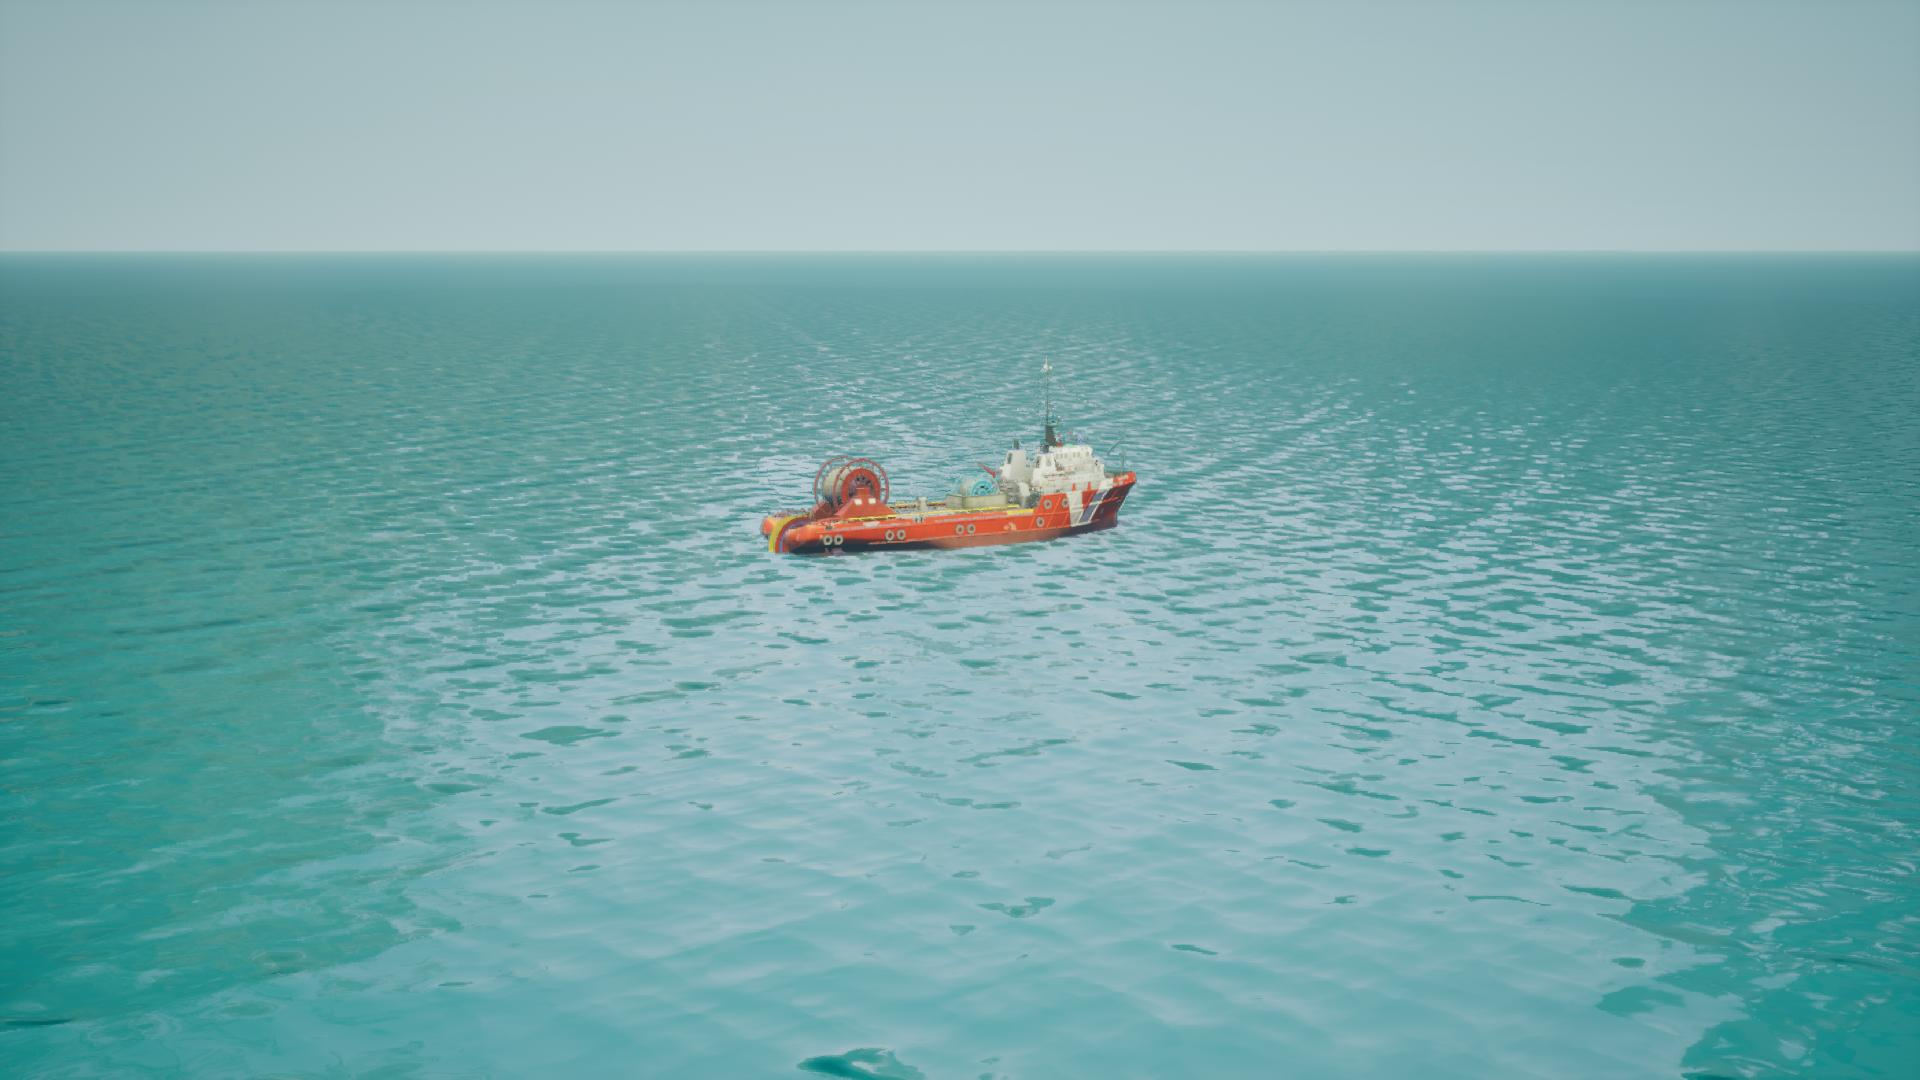Tug Boat: (762, 444, 1151, 556)
